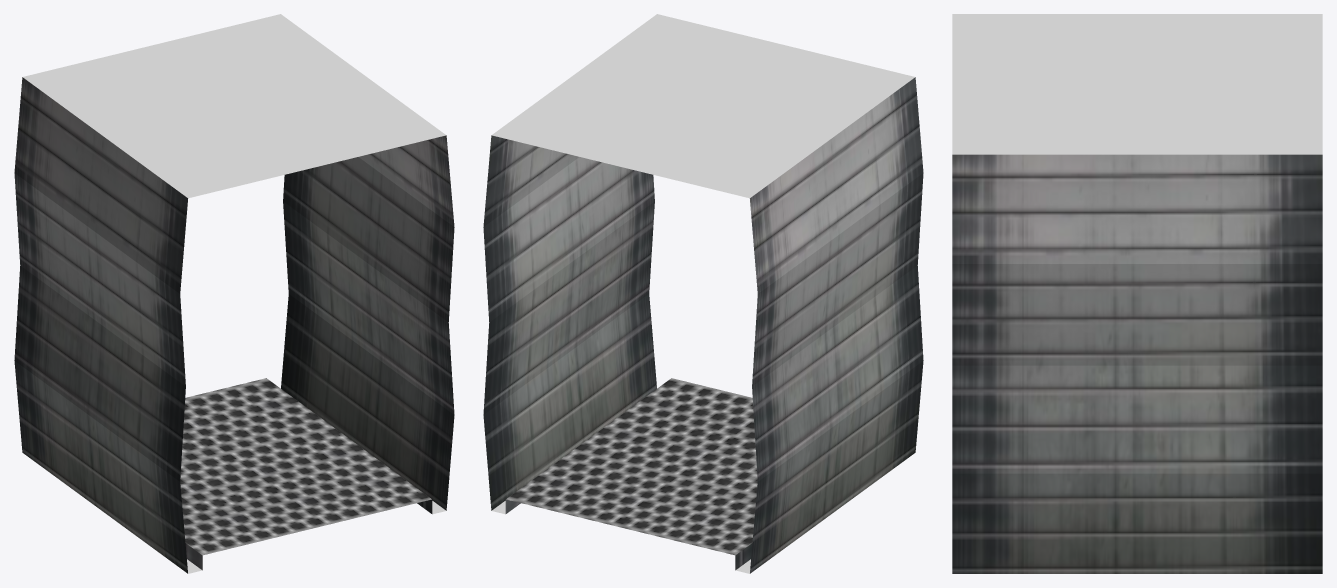
The model's file is Small_Hallway.fbx.
The picture shows the model from 3 angles, left to right: view 1: azimuth 30°, elevation 25°; view 2: azimuth 150°, elevation 25°; view 3: azimuth 270°, elevation 25°; orthographic projection. The views are drawn at different scales.
Visible parts, largest first — view 1: Hallway; view 2: Hallway; view 3: Hallway.
Boxes of the visible parts, bbox=[...] form: Hallway: bbox=[14, 14, 454, 573]; Hallway: bbox=[483, 14, 923, 573]; Hallway: bbox=[952, 14, 1322, 573].
Size of the model in its own units: 239 by 313 by 250.
